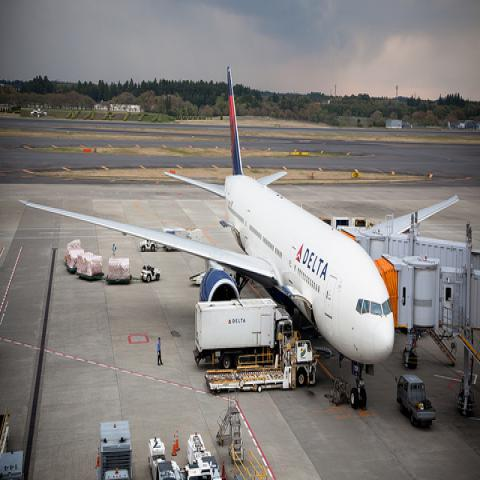car: (140, 265, 162, 282), (139, 239, 160, 250)
truck: (194, 293, 293, 371), (204, 340, 317, 394), (396, 373, 436, 428)
